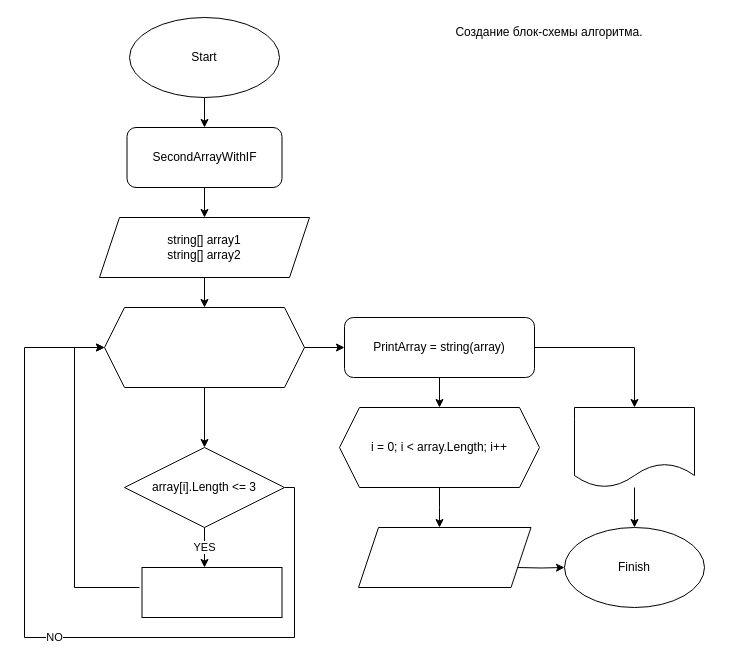
This 752x663 diagram has some shape labels left out. The centre of each missing label's shape, as x and y in pixels:
array[count] = array1[i] count++: point 211,592
Console.Write($"{array[i]} "): point 444,557
count=0 i = 0; i < array.Length; i++: point 204,347
PrintArray(array2): point 634,447
